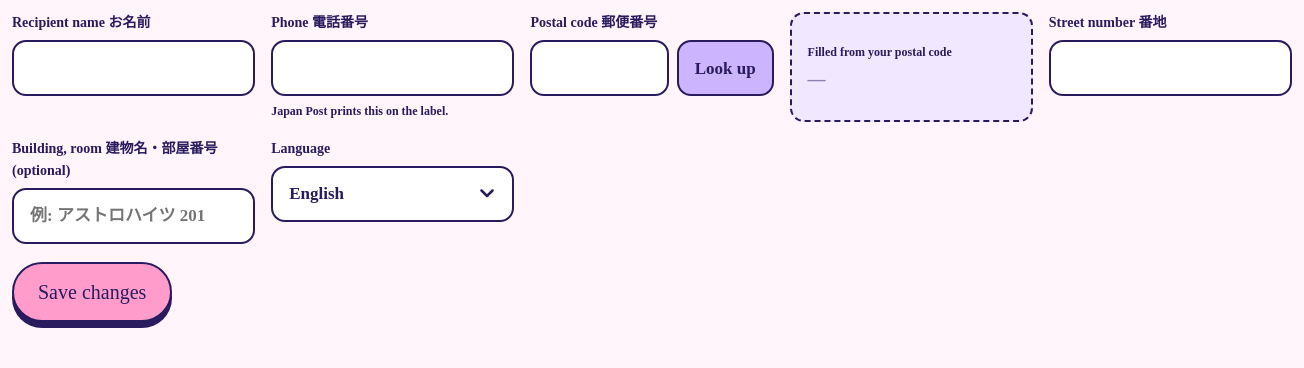
Scenario: ProfileForm missing fields › names each missing field, links the message to it, and focuses the first
Click the button "Save changes".
click(92, 292)  # box [12, 262, 172, 322]
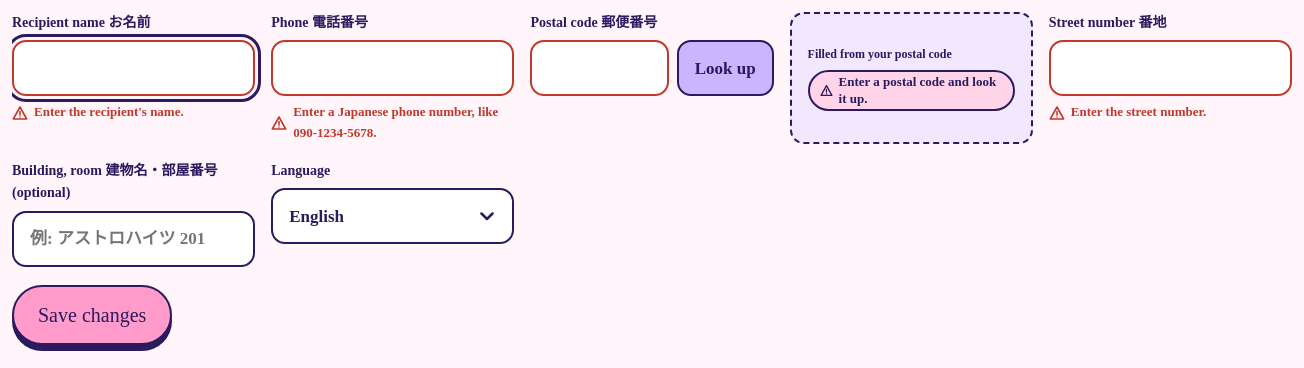
expect the element showing "Enter the recipient's name." is shown: met, box [12, 104, 184, 121]
expect the element showing "Enter the street number." is shown: met, box [1049, 104, 1206, 121]
